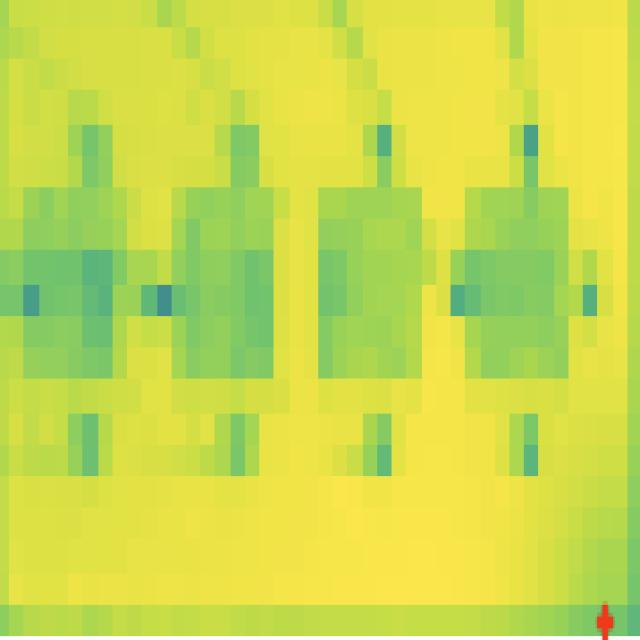Concrete: (10, 115, 150, 537)
Glass: (452, 97, 590, 501)
Metal: (160, 104, 290, 497)
Wood: (313, 107, 434, 498)
